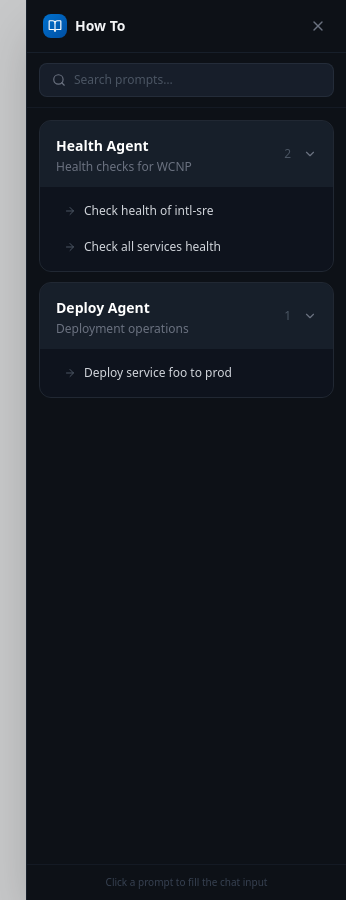
Scenario: HowToPanel › re-expands a collapsed group on second click
Click the text "Health Agent".
click(102, 146)  # box x1=56 y1=136 x2=149 y2=155
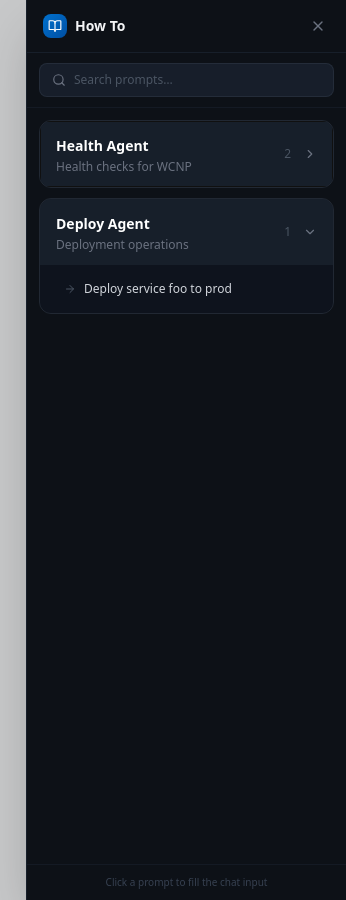
Click the text "Health Agent".
click(102, 146)  # box x1=56 y1=136 x2=149 y2=155
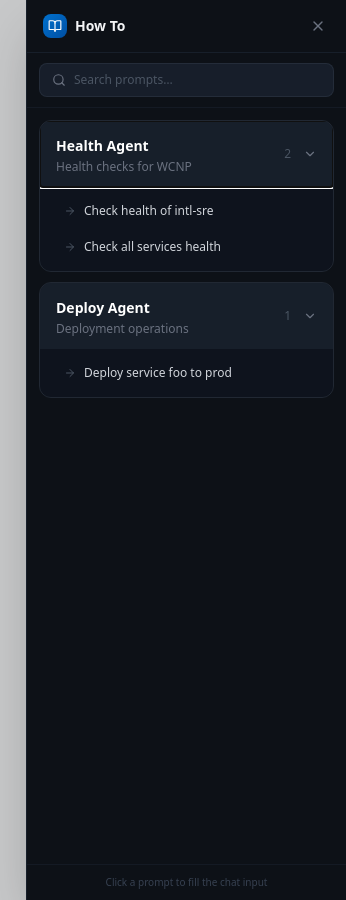
Expected: the text "Check health of intl-sre" is shown, x1=84 y1=202 x2=214 y2=219
